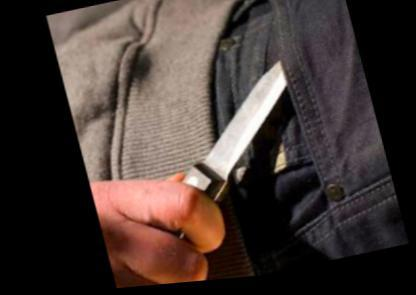knife: (97, 50, 334, 286)
